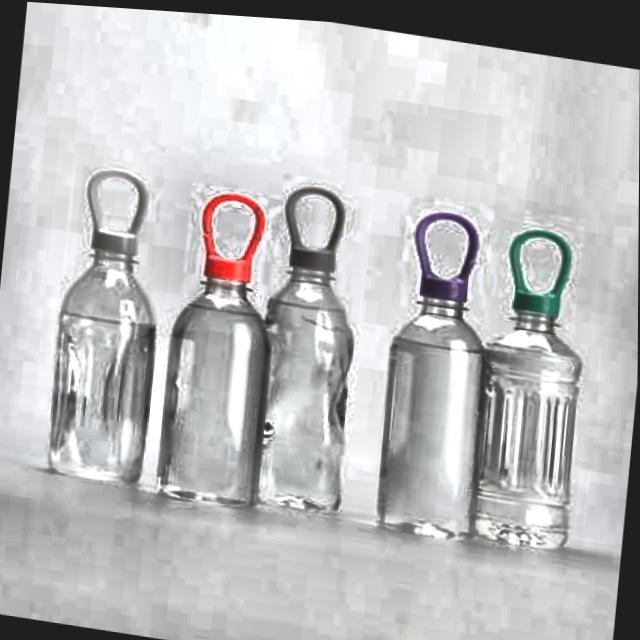Bottles: (466, 275, 613, 556), (242, 234, 383, 519), (34, 218, 175, 497), (154, 239, 281, 512), (371, 266, 498, 537)
